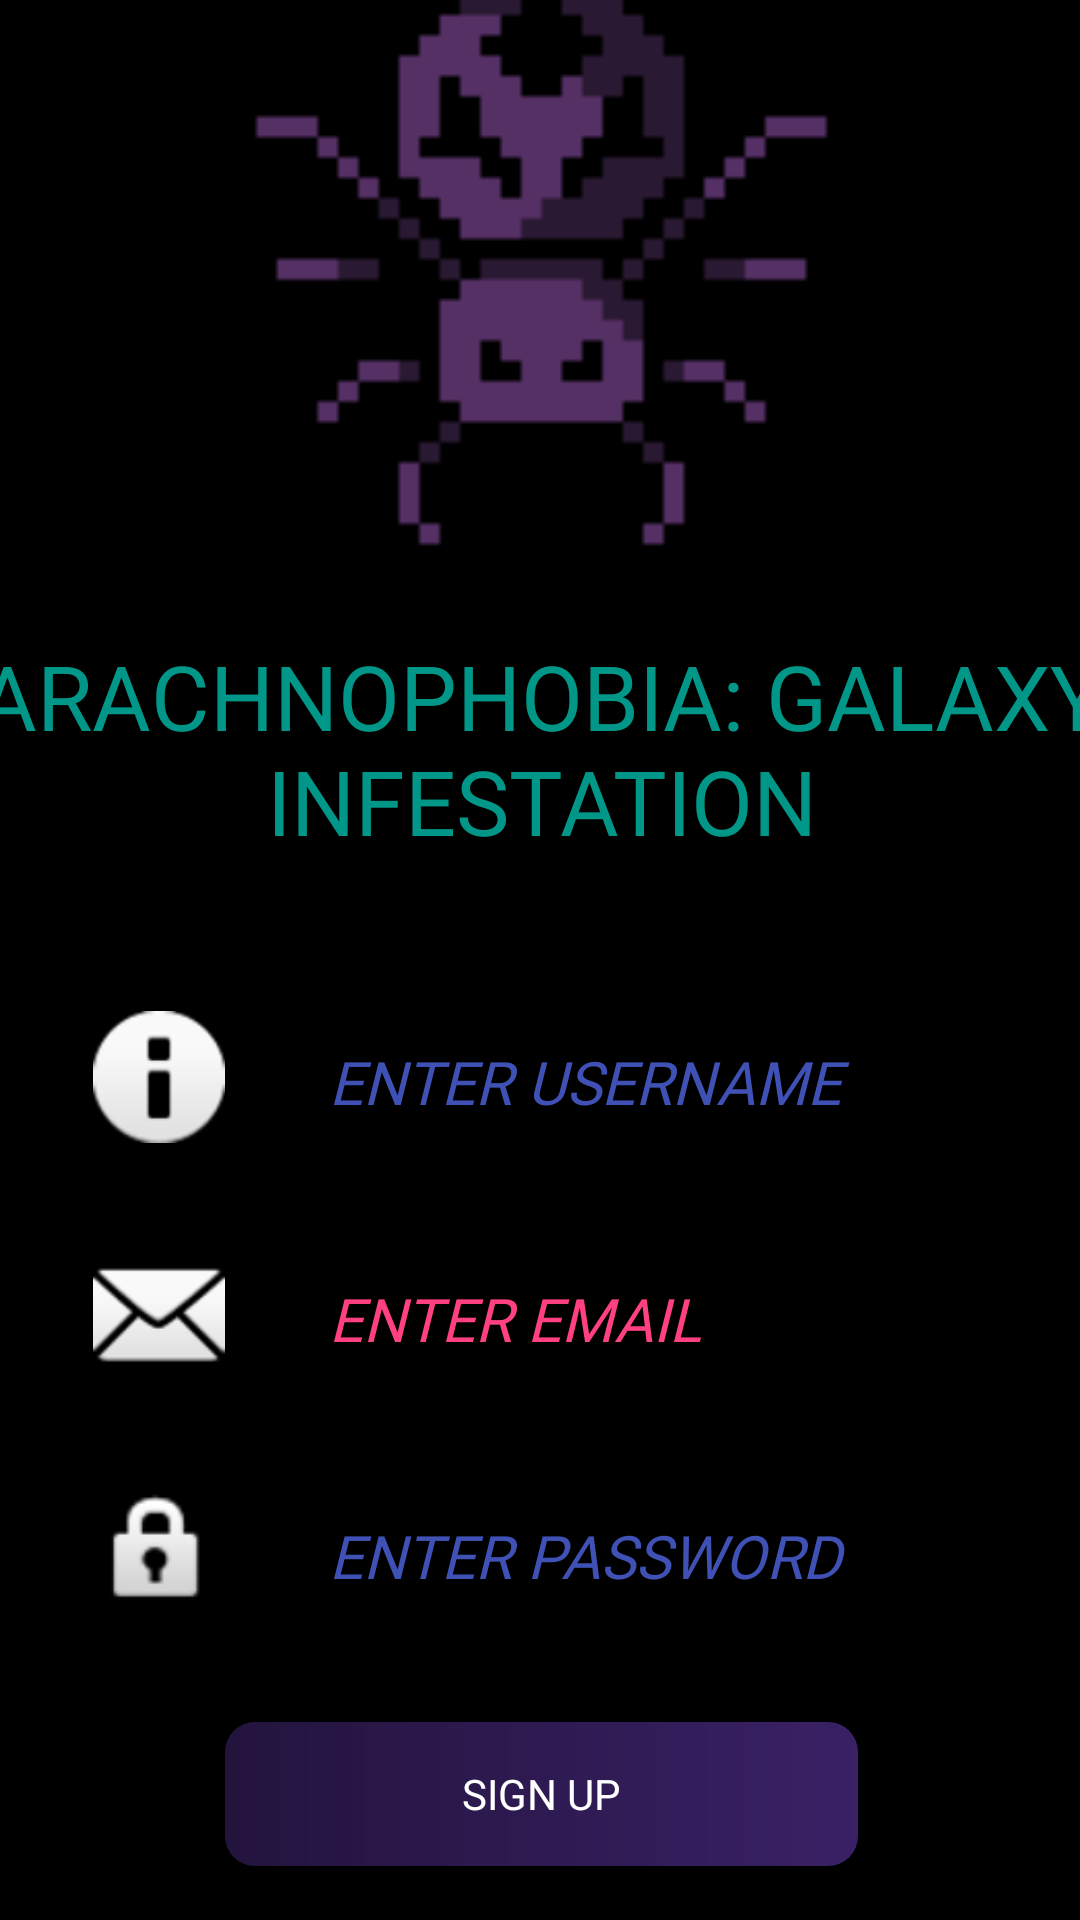

Icons on this 1080 x 1920 Android screen, each with the point to tap as (x,y):
info: (159,1077)
lock idle: (156,1546)
